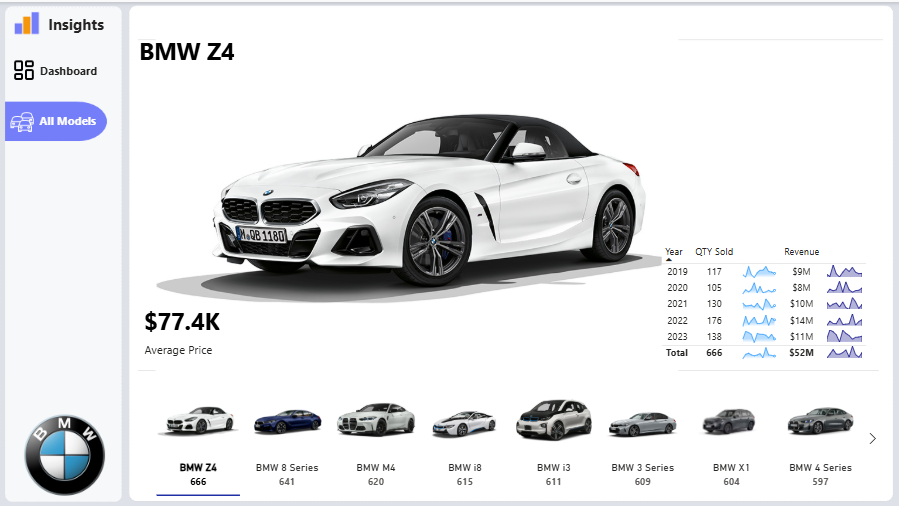

Layout of this report page (visuals, bound fields, positions):
{"tool":"powerbi","page":{"name":" All Models","canvas":[1280,720],"ordinal":1},"visuals":[{"type":"advancedSlicerVisual","fields":{"Values":["Dim Model.Model"]},"box":[199.8,529.4,1056,175.5],"z":0},{"type":"advancedSlicerVisual","fields":{"Values":["Dim Model.Model"]},"box":[198.4,27.1,792,502.3],"z":1000},{"type":"shape","box":[199.8,28.5,479.5,79.9],"z":2000},{"type":"shape","box":[206.9,410.6,176.9,79.9],"z":3000},{"type":"textbox","box":[202.6,476.2,134.1,35.7],"z":4000},{"type":"tableEx","fields":{"Values":["Calender.Year","All Measures.QTY Sold","All Measures.Opaque Area Sparkline (no one value) bright","All Measures.Revenue","All Measures.Revenue Sparkline"]},"box":[940.4,338.2,329.6,191.2],"z":5000},{"type":"textbox","box":[51.4,157,95.6,30],"z":6000},{"type":"image","box":[5.7,148.4,57.1,42.8],"z":7000},{"type":"textbox","box":[52.4,87,95.6,30],"z":8000},{"type":"image","box":[11,75.6,51.4,42.8],"z":9000},{"type":"actionButton","box":[11.4,71.3,165.5,54.2],"z":10000},{"type":"image","box":[12.8,579.7,163,124.7],"z":11000},{"type":"textbox","box":[62.4,17,96.4,29.8],"z":12000},{"type":"image","box":[2.8,4.3,75.1,48.2],"z":13000}]}

Visuals, with their boxes on the page's 1280x720 design canvas (x1, y1, x2, y2). These are canvas units, not pixel positions in the 899x506 screenshot, which may show the page scaled, cropped or inside an application window:
advancedSlicerVisual - Dim Model.Model: locate(200, 529, 1256, 705)
advancedSlicerVisual - Dim Model.Model: locate(198, 27, 990, 529)
shape: locate(200, 28, 679, 108)
shape: locate(207, 411, 384, 490)
textbox: locate(203, 476, 337, 512)
tableEx - Calender.Year x All Measures.QTY Sold: locate(940, 338, 1270, 529)
textbox: locate(51, 157, 147, 187)
image: locate(6, 148, 63, 191)
textbox: locate(52, 87, 148, 117)
image: locate(11, 76, 62, 118)
actionButton: locate(11, 71, 177, 126)
image: locate(13, 580, 176, 704)
textbox: locate(62, 17, 159, 47)
image: locate(3, 4, 78, 52)
